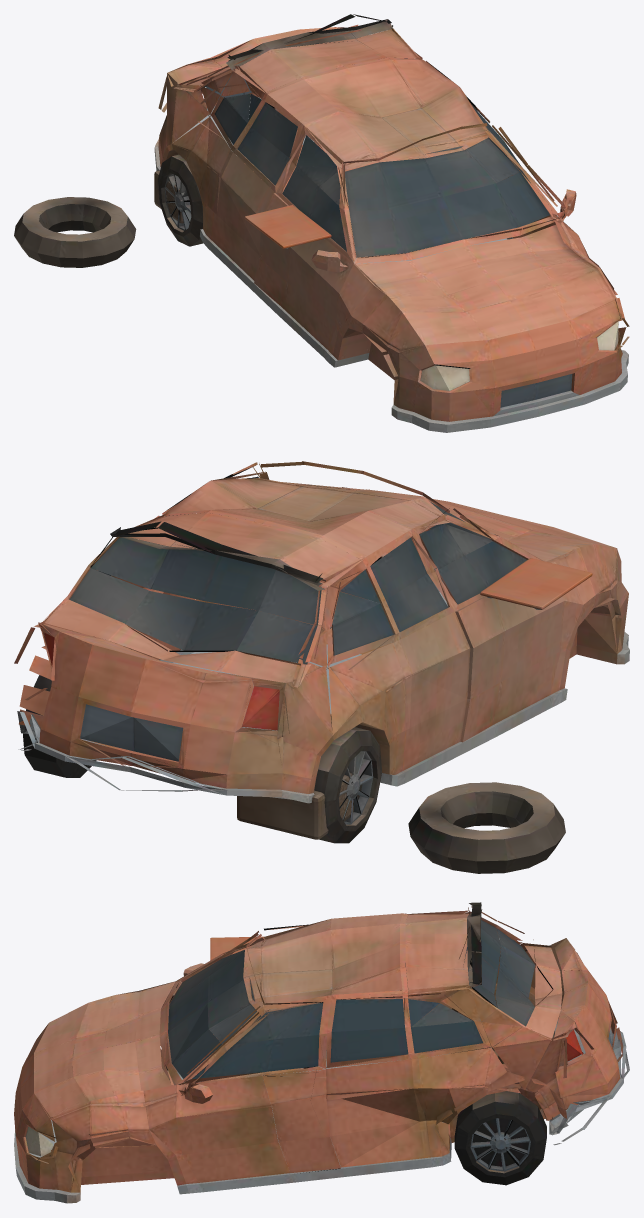
File: scrap_car_b.glb
3 renders of one model, top to bottom at view 1: azimuth 30°, elevation 25°; view 2: azimuth 150°, elevation 25°; view 3: azimuth 270°, elevation 25°, orthographic. The views are drawn at different scales.
Visible parts, largest first — view 1: ScrapCar_Mesh; view 2: ScrapCar_Mesh; view 3: ScrapCar_Mesh.
Part boxes in pixels (bbox=[...]): ScrapCar_Mesh: bbox=[14, 14, 629, 432]; ScrapCar_Mesh: bbox=[14, 461, 629, 873]; ScrapCar_Mesh: bbox=[14, 902, 629, 1203].
Size of the model in its own units: 2.52 by 1.32 by 3.28.
1 material, 1 textured.
